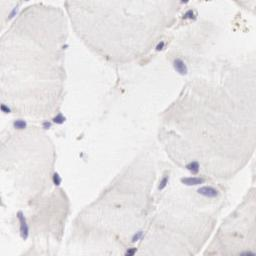nucleus: (16, 210, 28, 240), (173, 57, 187, 75), (197, 186, 219, 197), (180, 176, 205, 185), (186, 161, 199, 174), (131, 229, 143, 243), (52, 114, 67, 125), (158, 177, 169, 192), (52, 172, 63, 186), (182, 10, 195, 21), (8, 7, 18, 21), (14, 121, 26, 128), (42, 122, 52, 130), (1, 105, 11, 112), (241, 252, 256, 256), (157, 42, 164, 50), (127, 247, 138, 251), (64, 44, 69, 48), (181, 1, 188, 3)
